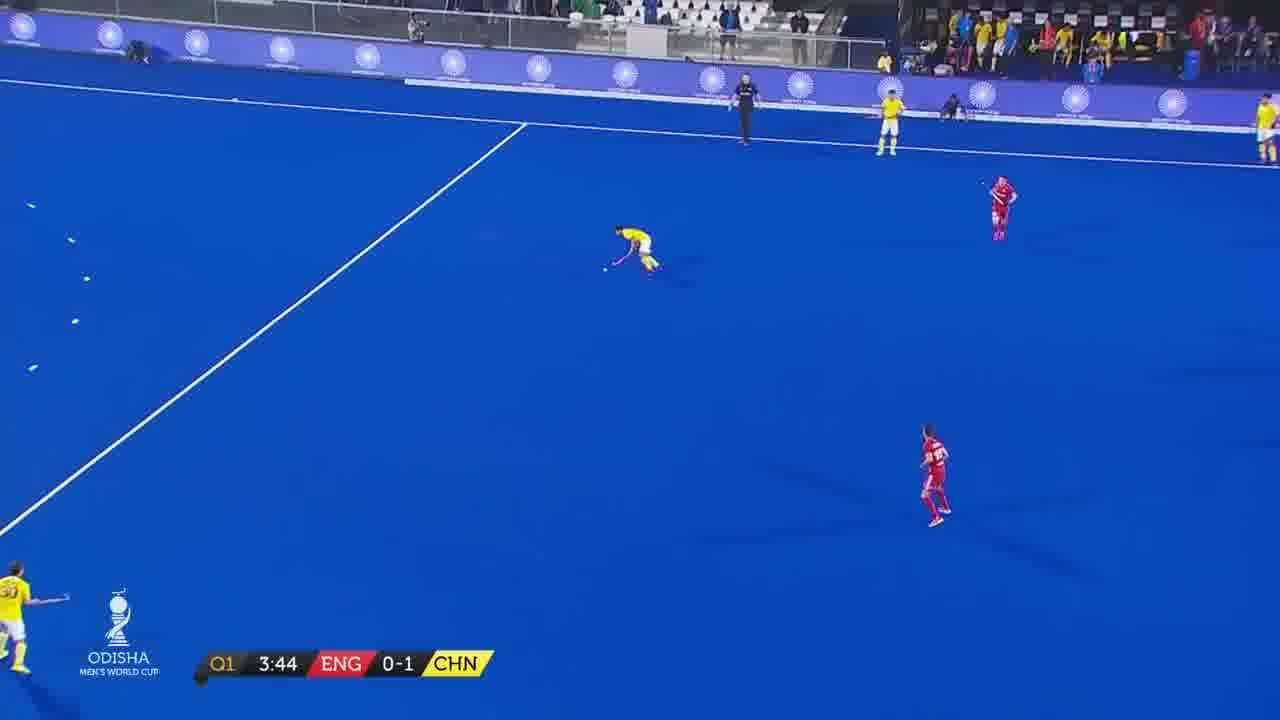ball: (595, 265, 613, 274)
